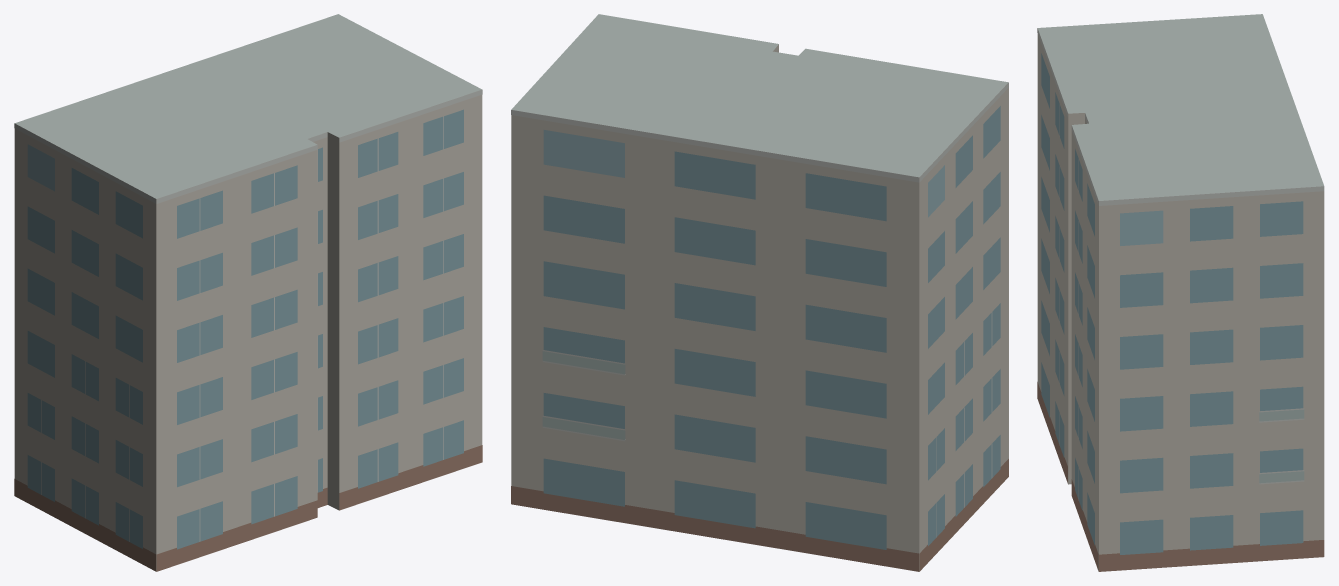
Rendered from survey-upis-32576674.glb.
3 renders of one model, left to right at view 1: azimuth 30°, elevation 25°; view 2: azimuth 150°, elevation 25°; view 3: azimuth 270°, elevation 25°, orthographic. The views are drawn at different scales.
Visible parts, largest first — view 1: survey-upis-32576674.tmp; view 2: survey-upis-32576674.tmp; view 3: survey-upis-32576674.tmp.
Boxes of the visible parts, x1,y1,x2,y2 form: survey-upis-32576674.tmp: (14,14,482,571); survey-upis-32576674.tmp: (511,14,1008,571); survey-upis-32576674.tmp: (1037,14,1324,571).
Bounding box in the file's own units: 19.81 × 18.3 × 12.84.
